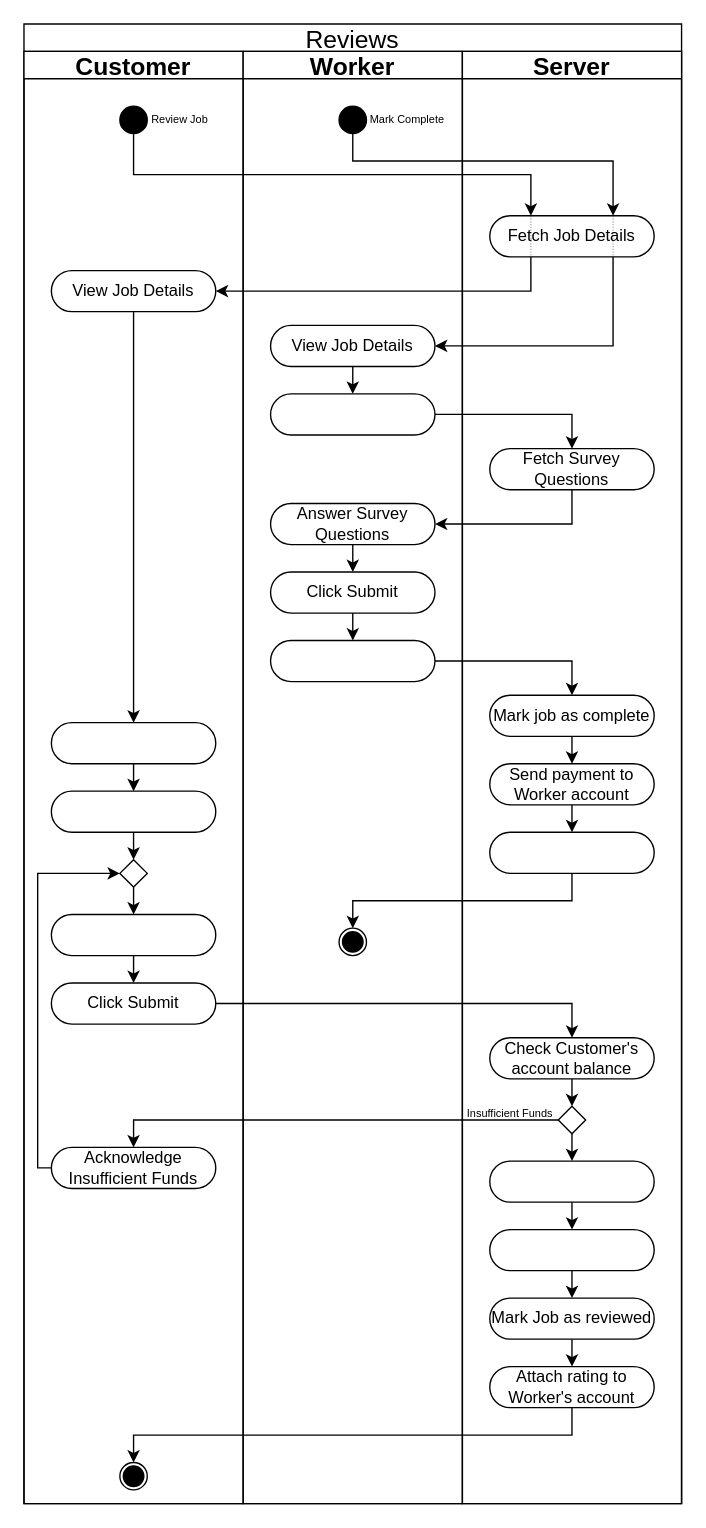
This 706x1528 diagram has some shape labels left out. The shapes that lost their labels are listed below. From the top down, each one's centre as x and y in pixels, then its label:
(x=352, y=414): Click Mark Complete
(x=352, y=660): Click Confirm
(x=133, y=742): Leave a rating
(x=133, y=811): Leave an optional comment
(x=571, y=852): Attach survey to Customer's account
(x=133, y=934): Leave optional gratuity
(x=571, y=1181): Remove gratuity from Customer account
(x=571, y=1249): Add gratuity to Worker account
